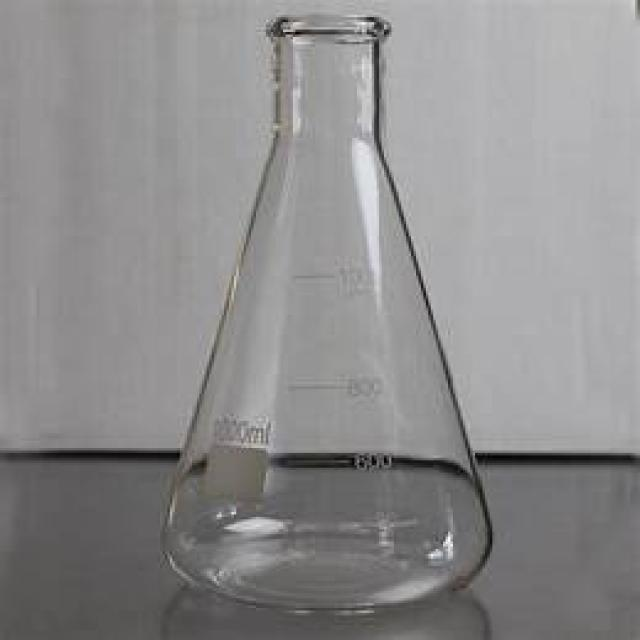Titrarion: (158, 19, 501, 611)
